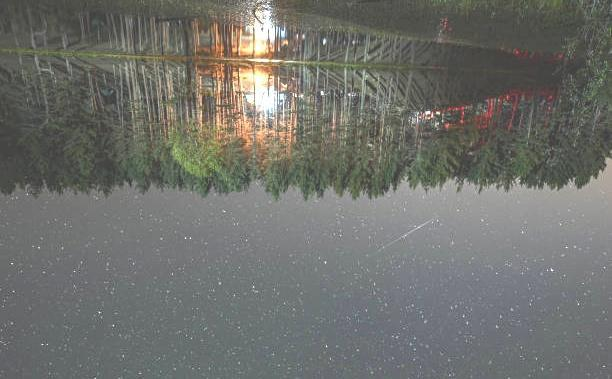meteorite: (370, 216, 446, 248)
